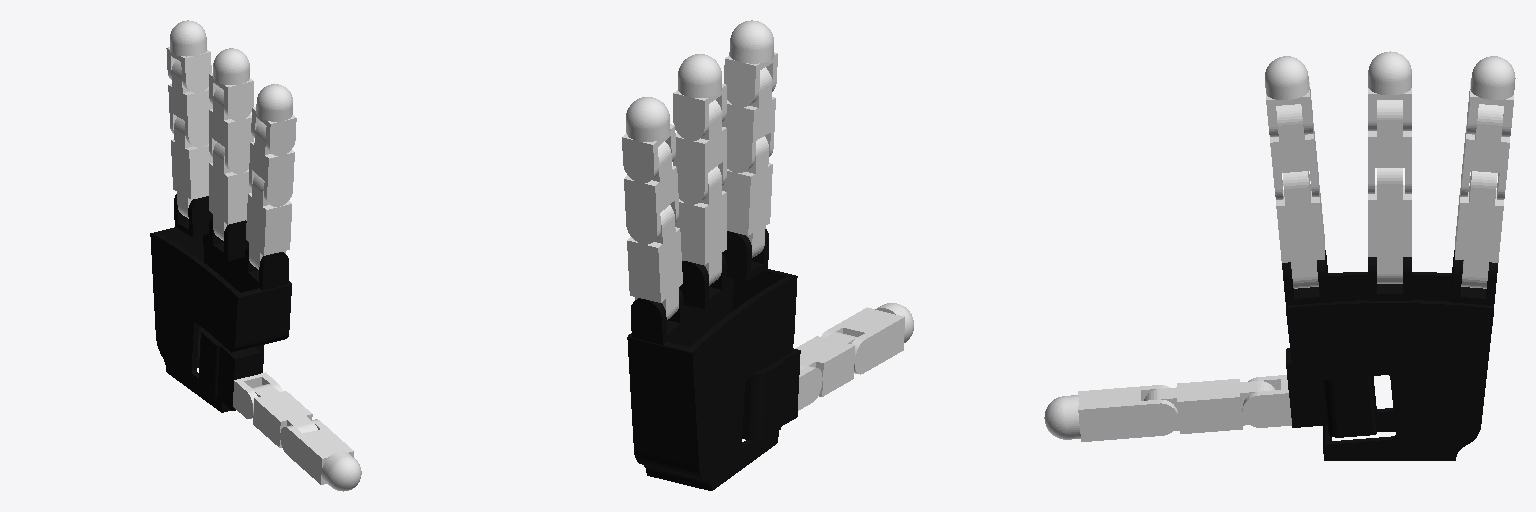
--- Facts derived from the render (not from the file) ---
The picture shows the robot from 3 angles, left to right: view 1: azimuth 30°, elevation 25°; view 2: azimuth 150°, elevation 25°; view 3: azimuth 270°, elevation 25°; orthographic projection.
Robot: ahand — 24 links, 23 joints (16 revolute, 7 fixed); root link world; default pose: all joints at 0.
Links seen in each view (by area): view 1: ahand_palm_link, thumb_dof0_link, f1_dof1_link, f2_dof1_link, f3_dof1_link, thumb_dof2_link, f1_dof2_link, thumb_dof3_link, f2_dof2_link, f3_dof2_link, f1_dof0_link, f3_dof3_link (+9 smaller); view 2: ahand_palm_link, f3_dof1_link, thumb_dof0_link, f2_dof1_link, f1_dof1_link, f3_dof2_link, f2_dof2_link, f1_dof2_link, thumb_dof3_link, thumb_dof2_link, f3_dof0_link, f1_dof3_link (+8 smaller); view 3: ahand_palm_link, thumb_dof0_link, thumb_dof3_link, f3_dof1_link, f1_dof1_link, f2_dof1_link, thumb_dof2_link, f1_dof2_link, f3_dof2_link, f2_dof2_link, thumb_dof1_link, f1_dof4_link (+9 smaller).
Link boxes in pixels (bbox=[...]): ahand_palm_link: bbox=[150, 227, 291, 412]; thumb_dof0_link: bbox=[198, 328, 263, 410]; f1_dof1_link: bbox=[246, 174, 291, 269]; f2_dof1_link: bbox=[209, 142, 251, 240]; f3_dof1_link: bbox=[171, 117, 212, 218]; thumb_dof2_link: bbox=[252, 384, 317, 447]; f1_dof2_link: bbox=[249, 121, 294, 206]; thumb_dof3_link: bbox=[280, 419, 353, 484]; f2_dof2_link: bbox=[209, 87, 253, 173]; f3_dof2_link: bbox=[168, 60, 212, 147]; f1_dof0_link: bbox=[244, 244, 288, 290]; f3_dof3_link: bbox=[166, 47, 211, 92]; ahand_palm_link: bbox=[627, 269, 797, 490]; f3_dof1_link: bbox=[627, 205, 682, 319]; thumb_dof0_link: bbox=[742, 348, 800, 440]; f2_dof1_link: bbox=[675, 166, 726, 285]; f1_dof1_link: bbox=[722, 136, 772, 257]; f3_dof2_link: bbox=[624, 141, 678, 244]; f2_dof2_link: bbox=[673, 100, 726, 204]; f1_dof2_link: bbox=[722, 67, 775, 172]; thumb_dof3_link: bbox=[821, 307, 904, 374]; thumb_dof2_link: bbox=[795, 332, 857, 396]; f3_dof0_link: bbox=[631, 288, 684, 344]; f1_dof3_link: bbox=[724, 52, 777, 107]; ahand_palm_link: bbox=[1286, 272, 1493, 460]; thumb_dof0_link: bbox=[1286, 348, 1376, 437]; thumb_dof3_link: bbox=[1078, 385, 1178, 441]; f3_dof1_link: bbox=[1455, 171, 1503, 288]; f1_dof1_link: bbox=[1276, 171, 1324, 288]; f2_dof1_link: bbox=[1368, 168, 1411, 283]; thumb_dof2_link: bbox=[1144, 379, 1274, 433]; f1_dof2_link: bbox=[1270, 104, 1319, 199]; f3_dof2_link: bbox=[1460, 104, 1509, 199]; f2_dof2_link: bbox=[1368, 100, 1411, 193]; thumb_dof1_link: bbox=[1242, 375, 1291, 427]; f1_dof4_link: bbox=[1265, 56, 1309, 99].
Size in the robot's own frame: 0.0448 by 0.2574 by 0.2402 metres.
21 mesh visuals loaded from 7 distinct referenced files (7 Collada DAE).

URDF robot description (ahand):
<?xml version="1.0" ?>
<!-- =================================================================================== -->
<!-- |    This document was autogenerated by xacro from allegro_hand.xacro             | -->
<!-- |    EDITING THIS FILE BY HAND IS NOT RECOMMENDED                                 | -->
<!-- =================================================================================== -->
<robot name="ahand" xmlns:xacro="http://ros.org/wiki/xacro">
  <link name="world"/>
  <joint name="ahand_base_joint" type="fixed">
    <parent link="world"/>
    <child link="ahand_palm_link"/>
    <origin rpy="0 0 0" xyz="1.0 0 0.15"/>
  </joint>
  <link name="ahand_palm_link">
    <inertial>
      <origin xyz="-0.01 0 -0.05"/>
      <!--origin xyz="-0.01 0 -0.05"/-->
      <inertia ixx="0.00184605916667" ixy="0" ixz="0" iyy="0.00112558666667" iyz="0" izz="0.00103097916667"/>
      <mass value="1.1644"/>
    </inertial>
    <visual>
      <origin rpy="3.14159265359 0 0" xyz="-0.0282 -0.057 -0.095"/>
      <!-- DONE -->
      <material name="all">
        <color rgba="0.1 0.1 0.1 0.5"/>
      </material>
      <geometry>
        <mesh filename="package://allegro_hand_description/meshes/allegro_palm_left.dae"/>
      </geometry>
    </visual>
    <collision>
      <origin rpy="3.14159265359 0 0" xyz="-0.0282 -0.057 -0.095"/>
      <!-- DONE -->
      <geometry>
        <mesh filename="package://allegro_hand_description/meshes/allegro_palm_left.dae"/>
      </geometry>
    </collision>
  </link>
  <joint name="ahand_palm_surface_joint" type="fixed">
    <parent link="ahand_palm_link"/>
    <child link="ahand_palm_surface_link"/>
    <origin rpy="0 0 0" xyz="0 0 0.08"/>
    <limit effort="5" lower="0" upper="3.14159265359" velocity="5.0"/>
    <dynamics damping="0.002" friction="0.08"/>
  </joint>
  <link name="ahand_palm_surface_link">
    <inertial>
      <mass value="0.000001"/>
      <inertia ixx="0.000001" ixy="0.0" ixz="0.0" iyy="0.000001" iyz="0.0" izz="0.000001"/>
    </inertial>
  </link>
  <joint name="ahand_grasp_joint" type="fixed">
    <parent link="ahand_palm_link"/>
    <child link="ahand_grasp_link"/>
    <origin rpy="0 0 0" xyz="0 0 0.12"/>
    <limit effort="5" lower="0" upper="3.14159265359" velocity="5.0"/>
    <dynamics damping="0.002" friction="0.08"/>
  </joint>
  <link name="ahand_grasp_link">
    <inertial>
      <mass value="0.000001"/>
      <inertia ixx="0.000001" ixy="0.0" ixz="0.0" iyy="0.000001" iyz="0.0" izz="0.000001"/>
    </inertial>
  </link>
  <joint name="f1_dof0_joint" type="revolute">
    <parent link="ahand_palm_link"/>
    <child link="f1_dof0_link"/>
    <origin rpy="0.0873 0 0" xyz="0 -0.044981 -0.002298"/>
    <axis xyz="0 0 1"/>
    <limit effort="100" lower="-0.469999993522" upper="0.469999993522" velocity="100"/>
    <dynamics damping="0.002" friction="0.08"/>
  </joint>
  <link name="f1_dof0_link">
    <inertial>
      <origin xyz="0.00 0 0.01"/>
      <inertia ixx="9.39583333333e-07" ixy="0" ixz="0" iyy="1.14583333333e-06" iyz="0" izz="9.39583333333e-07"/>
      <mass value="0.011"/>
    </inertial>
    <visual>
      <origin rpy="1.57079632679 0.0 0.0 " xyz="-0.0098 -0.012 0.0"/>
      <!-- DONE, OK -->
      <material name="all">
        <color rgba="0.1 0.1 0.1 0.5"/>
      </material>
      <geometry>
        <mesh filename="package://allegro_hand_description/meshes/allegro_fingerdof0.dae"/>
      </geometry>
    </visual>
    <collision>
      <origin rpy="1.57079632679 0.0 0.0 " xyz="-0.0098 -0.012 0.0"/>
      <!-- DONE, OK -->
      <material name="all">
        <color rgba="0.1 0.1 0.1 0.5"/>
      </material>
      <geometry>
        <mesh filename="package://allegro_hand_description/meshes/allegro_fingerdof0.dae"/>
      </geometry>
    </collision>
  </link>
  <joint name="f1_dof1_joint" type="revolute">
    <parent link="f1_dof0_link"/>
    <child link="f1_dof1_link"/>
    <origin rpy="-1.57079632679 0 0" xyz="0 0 0.0164"/>
    <axis xyz="0 0 1"/>
    <limit effort="100" lower="-0.19600000376" upper="1.60999999972" velocity="100"/>
    <dynamics damping="0.002" friction="0.08"/>
  </joint>
  <link name="f1_dof1_link">
    <inertial>
      <origin xyz="0.  -0.027 0 "/>
      <inertia ixx="2.01246833333e-05" ixy="0" ixz="0" iyy="7.10416666667e-06" iyz="0" izz="2.01246833333e-05"/>
      <mass value="0.0682"/>
    </inertial>
    <visual>
      <material name="WAMGrey">
        <color rgba="0.9 0.9 0.9 1.0"/>
      </material>
      <origin rpy="0 0 0.0" xyz="-0.0098 -0.0638 0.012"/>
      <!-- DONE -->
      <geometry>
        <mesh filename="package://allegro_hand_description/meshes/allegro_fingerdof1.dae"/>
      </geometry>
    </visual>
    <collision>
      <origin rpy="1.57079632679 0 0.0" xyz=" 0.  -0.027 0  "/>
      <geometry>
        <cylinder length="0.035" radius="0.0125"/>
      </geometry>
    </collision>
  </link>
  <joint name="f1_dof2_joint" type="revolute">
    <parent link="f1_dof1_link"/>
    <child link="f1_dof2_link"/>
    <origin rpy="0 0 -1.57079632679" xyz="0.0 -0.054 0.0"/>
    <!-- DONE -->
    <axis xyz="0 0 1"/>
    <limit effort="100" lower="-0.174000006366" upper="1.70899999672" velocity="100"/>
    <dynamics damping="0.002" friction="0.08"/>
  </joint>
  <link name="f1_dof2_link">
    <inertial>
      <origin xyz=" 0.0192 0 0 "/>
      <inertia ixx="4.1875e-06" ixy="0" ixz="0" iyy="7.033526e-06" iyz="0" izz="7.033526e-06"/>
      <mass value="0.0402"/>
    </inertial>
    <visual>
      <origin rpy="3.14159265359 0 1.57079632679" xyz="-0.0098 -0.0098 -0.012"/>
      <!-- DONE -->
      <material name="WAMGrey">
        <color rgba="0.9 0.9 0.9 0.0"/>
      </material>
      <geometry>
        <mesh filename="package://allegro_hand_description/meshes/allegro_fingerdof2.dae"/>
      </geometry>
    </visual>
    <collision>
      <origin rpy="1.57079632679 0 1.57079632679" xyz=" 0.0192 0 0 "/>
      <geometry>
        <cylinder length="0.05" radius="0.0125"/>
      </geometry>
    </collision>
  </link>
  <joint name="f1_dof3_joint" type="revolute">
    <parent link="f1_dof2_link"/>
    <child link="f1_dof3_link"/>
    <origin rpy="0 0 0" xyz="0.0384 0 0"/>
    <axis xyz="0 0 1"/>
    <limit effort="100" lower="-0.227000000882" upper="1.6179999956" velocity="100"/>
    <dynamics damping="0.002" friction="0.08"/>
  </joint>
  <link name="f1_dof3_link">
    <inertial>
      <origin xyz=" 0.01 0 0 "/>
      <inertia ixx="9.79166666667e-07" ixy="0" ixz="0" iyy="8.02916666667e-07" iyz="0" izz="8.02916666667e-07"/>
      <mass value="0.0094"/>
    </inertial>
    <visual>
      <origin rpy="0 0 1.57079632679" xyz="0.016 -0.0098 0.012"/>
      <!-- DONE -->
      <material name="WAMGrey">
        <color rgba="0.9 0.9 0.9 1.0"/>
      </material>
      <geometry>
        <mesh filename="package://allegro_hand_description/meshes/allegro_fingerdof0.dae"/>
      </geometry>
    </visual>
    <collision>
      <origin rpy="0 0 1.57079632679" xyz="0.016 -0.0098 0.012"/>
      <!-- DONE -->
      <geometry>
        <mesh filename="package://allegro_hand_description/meshes/allegro_fingerdof0.dae"/>
      </geometry>
    </collision>
  </link>
  <joint name="f1_dof4_joint" type="fixed">
    <parent link="f1_dof3_link"/>
    <child link="f1_dof4_link"/>
    <origin rpy="0 0 0" xyz="0.016 0 0"/>
  </joint>
  <link name="f1_dof4_link">
    <inertial>
      <origin xyz=" 0.01 0 0 "/>
      <inertia ixx="1.17333333333e-06" ixy="0" ixz="0" iyy="1.17333333333e-06" iyz="0" izz="1.17333333333e-06"/>
      <mass value="0.0176"/>
    </inertial>
    <visual>
      <origin rpy="0 0 -1.57079632679" xyz="0 0.012 0.012"/>
      <!-- DONE -->
      <material name="WAMGrey">
        <color rgba="0.9 0.9 0.9 0.0"/>
      </material>
      <geometry>
        <mesh filename="package://allegro_hand_description/meshes/allegro_fingertip.dae"/>
      </geometry>
    </visual>
    <collision name="f1_dof4_link_collision">
      <origin rpy="0 0 -1.57079632679" xyz=" 0.01 0 0 "/>
      <geometry>
        <sphere radius="0.01"/>
      </geometry>
    </collision>
  </link>
  <joint name="f2_dof0_joint" type="revolute">
    <parent link="ahand_palm_link"/>
    <child link="f2_dof0_link"/>
    <origin rpy="0 0 0.0" xyz="0 0 0"/>
    <axis xyz="0 0 1"/>
    <limit effort="100" lower="-0.469999993522" upper="0.469999993522" velocity="100"/>
    <dynamics damping="0.002" friction="0.08"/>
  </joint>
  <link name="f2_dof0_link">
    <inertial>
      <origin xyz="0.00 0 0.01"/>
      <inertia ixx="9.39583333333e-07" ixy="0" ixz="0" iyy="1.14583333333e-06" iyz="0" izz="9.39583333333e-07"/>
      <mass value="0.011"/>
    </inertial>
    <visual>
      <origin rpy="1.57079632679 0.0 0.0 " xyz="-0.0098 -0.012 0.0"/>
      <!-- DONE, OK -->
      <material name="all">
        <color rgba="0.1 0.1 0.1 0.5"/>
      </material>
      <geometry>
        <mesh filename="package://allegro_hand_description/meshes/allegro_fingerdof0.dae"/>
      </geometry>
    </visual>
    <collision>
      <origin rpy="1.57079632679 0.0 0.0 " xyz="-0.0098 -0.012 0.0"/>
      <!-- DONE, OK -->
      <material name="all">
        <color rgba="0.1 0.1 0.1 0.5"/>
      </material>
      <geometry>
        <mesh filename="package://allegro_hand_description/meshes/allegro_fingerdof0.dae"/>
      </geometry>
    </collision>
  </link>
  <joint name="f2_dof1_joint" type="revolute">
    <parent link="f2_dof0_link"/>
    <child link="f2_dof1_link"/>
    <origin rpy="-1.57079632679 0 0" xyz="0 0 0.0164"/>
    <axis xyz="0 0 1"/>
    <limit effort="100" lower="-0.19600000376" upper="1.60999999972" velocity="100"/>
    <dynamics damping="0.002" friction="0.08"/>
  </joint>
  <link name="f2_dof1_link">
    <inertial>
      <origin xyz="0.  -0.027 0 "/>
      <inertia ixx="2.01246833333e-05" ixy="0" ixz="0" iyy="7.10416666667e-06" iyz="0" izz="2.01246833333e-05"/>
      <mass value="0.0682"/>
    </inertial>
    <visual>
      <material name="WAMGrey">
        <color rgba="0.9 0.9 0.9 1.0"/>
      </material>
      <origin rpy="0 0 0.0" xyz="-0.0098 -0.0638 0.012"/>
      <!-- DONE -->
      <geometry>
        <mesh filename="package://allegro_hand_description/meshes/allegro_fingerdof1.dae"/>
      </geometry>
    </visual>
    <collision>
      <origin rpy="1.57079632679 0 0.0" xyz=" 0.  -0.027 0  "/>
      <geometry>
        <cylinder length="0.035" radius="0.0125"/>
      </geometry>
    </collision>
  </link>
  <joint name="f2_dof2_joint" type="revolute">
    <parent link="f2_dof1_link"/>
    <child link="f2_dof2_link"/>
    <origin rpy="0 0 -1.57079632679" xyz="0.0 -0.054 0.0"/>
    <!-- DONE -->
    <axis xyz="0 0 1"/>
    <limit effort="100" lower="-0.174000006366" upper="1.70899999672" velocity="100"/>
    <dynamics damping="0.002" friction="0.08"/>
  </joint>
  <link name="f2_dof2_link">
    <inertial>
      <origin xyz=" 0.0192 0 0 "/>
      <inertia ixx="4.1875e-06" ixy="0" ixz="0" iyy="7.033526e-06" iyz="0" izz="7.033526e-06"/>
      <mass value="0.0402"/>
    </inertial>
    <visual>
      <origin rpy="3.14159265359 0 1.57079632679" xyz="-0.0098 -0.0098 -0.012"/>
      <!-- DONE -->
      <material name="WAMGrey">
        <color rgba="0.9 0.9 0.9 0.0"/>
      </material>
      <geometry>
        <mesh filename="package://allegro_hand_description/meshes/allegro_fingerdof2.dae"/>
      </geometry>
    </visual>
    <collision>
      <origin rpy="1.57079632679 0 1.57079632679" xyz=" 0.0192 0 0 "/>
      <geometry>
        <cylinder length="0.05" radius="0.0125"/>
      </geometry>
    </collision>
  </link>
  <joint name="f2_dof3_joint" type="revolute">
    <parent link="f2_dof2_link"/>
    <child link="f2_dof3_link"/>
    <origin rpy="0 0 0" xyz="0.0384 0 0"/>
    <axis xyz="0 0 1"/>
    <limit effort="100" lower="-0.227000000882" upper="1.6179999956" velocity="100"/>
    <dynamics damping="0.002" friction="0.08"/>
  </joint>
  <link name="f2_dof3_link">
    <inertial>
      <origin xyz=" 0.01 0 0 "/>
      <inertia ixx="9.79166666667e-07" ixy="0" ixz="0" iyy="8.02916666667e-07" iyz="0" izz="8.02916666667e-07"/>
      <mass value="0.0094"/>
    </inertial>
    <visual>
      <origin rpy="0 0 1.57079632679" xyz="0.016 -0.0098 0.012"/>
      <!-- DONE -->
      <material name="WAMGrey">
        <color rgba="0.9 0.9 0.9 1.0"/>
      </material>
      <geometry>
        <mesh filename="package://allegro_hand_description/meshes/allegro_fingerdof0.dae"/>
      </geometry>
    </visual>
    <collision>
      <origin rpy="0 0 1.57079632679" xyz="0.016 -0.0098 0.012"/>
      <!-- DONE -->
      <geometry>
        <mesh filename="package://allegro_hand_description/meshes/allegro_fingerdof0.dae"/>
      </geometry>
    </collision>
  </link>
  <joint name="f2_dof4_joint" type="fixed">
    <parent link="f2_dof3_link"/>
    <child link="f2_dof4_link"/>
    <origin rpy="0 0 0" xyz="0.016 0 0"/>
  </joint>
  <link name="f2_dof4_link">
    <inertial>
      <origin xyz=" 0.01 0 0 "/>
      <inertia ixx="1.17333333333e-06" ixy="0" ixz="0" iyy="1.17333333333e-06" iyz="0" izz="1.17333333333e-06"/>
      <mass value="0.0176"/>
    </inertial>
    <visual>
      <origin rpy="0 0 -1.57079632679" xyz="0 0.012 0.012"/>
      <!-- DONE -->
      <material name="WAMGrey">
        <color rgba="0.9 0.9 0.9 0.0"/>
      </material>
      <geometry>
        <mesh filename="package://allegro_hand_description/meshes/allegro_fingertip.dae"/>
      </geometry>
    </visual>
    <collision name="f2_dof4_link_collision">
      <origin rpy="0 0 -1.57079632679" xyz=" 0.01 0 0 "/>
      <geometry>
        <sphere radius="0.01"/>
      </geometry>
    </collision>
  </link>
  <joint name="f3_dof0_joint" type="revolute">
    <parent link="ahand_palm_link"/>
    <child link="f3_dof0_link"/>
    <origin rpy="-0.0873 0 -0.0" xyz="0 0.044981 -0.002298"/>
    <axis xyz="0 0 1"/>
    <limit effort="100" lower="-0.469999993522" upper="0.469999993522" velocity="100"/>
    <dynamics damping="0.002" friction="0.08"/>
  </joint>
  <link name="f3_dof0_link">
    <inertial>
      <origin xyz="0.00 0 0.01"/>
      <inertia ixx="9.39583333333e-07" ixy="0" ixz="0" iyy="1.14583333333e-06" iyz="0" izz="9.39583333333e-07"/>
      <mass value="0.011"/>
    </inertial>
    <visual>
      <origin rpy="1.57079632679 0.0 0.0 " xyz="-0.0098 -0.012 0.0"/>
      <!-- DONE, OK -->
      <material name="all">
        <color rgba="0.1 0.1 0.1 0.5"/>
      </material>
      <geometry>
        <mesh filename="package://allegro_hand_description/meshes/allegro_fingerdof0.dae"/>
      </geometry>
    </visual>
    <collision>
      <origin rpy="1.57079632679 0.0 0.0 " xyz="-0.0098 -0.012 0.0"/>
      <!-- DONE, OK -->
      <material name="all">
        <color rgba="0.1 0.1 0.1 0.5"/>
      </material>
      <geometry>
        <mesh filename="package://allegro_hand_description/meshes/allegro_fingerdof0.dae"/>
      </geometry>
    </collision>
  </link>
  <joint name="f3_dof1_joint" type="revolute">
    <parent link="f3_dof0_link"/>
    <child link="f3_dof1_link"/>
    <origin rpy="-1.57079632679 0 0" xyz="0 0 0.0164"/>
    <axis xyz="0 0 1"/>
    <limit effort="100" lower="-0.19600000376" upper="1.60999999972" velocity="100"/>
    <dynamics damping="0.002" friction="0.08"/>
  </joint>
  <link name="f3_dof1_link">
    <inertial>
      <origin xyz="0.  -0.027 0 "/>
      <inertia ixx="2.01246833333e-05" ixy="0" ixz="0" iyy="7.10416666667e-06" iyz="0" izz="2.01246833333e-05"/>
      <mass value="0.0682"/>
    </inertial>
    <visual>
      <material name="WAMGrey">
        <color rgba="0.9 0.9 0.9 1.0"/>
      </material>
      <origin rpy="0 0 0.0" xyz="-0.0098 -0.0638 0.012"/>
      <!-- DONE -->
      <geometry>
        <mesh filename="package://allegro_hand_description/meshes/allegro_fingerdof1.dae"/>
      </geometry>
    </visual>
    <collision>
      <origin rpy="1.57079632679 0 0.0" xyz=" 0.  -0.027 0  "/>
      <geometry>
        <cylinder length="0.035" radius="0.0125"/>
      </geometry>
    </collision>
  </link>
  <joint name="f3_dof2_joint" type="revolute">
    <parent link="f3_dof1_link"/>
    <child link="f3_dof2_link"/>
    <origin rpy="0 0 -1.57079632679" xyz="0.0 -0.054 0.0"/>
    <!-- DONE -->
    <axis xyz="0 0 1"/>
    <limit effort="100" lower="-0.174000006366" upper="1.70899999672" velocity="100"/>
    <dynamics damping="0.002" friction="0.08"/>
  </joint>
  <link name="f3_dof2_link">
    <inertial>
      <origin xyz=" 0.0192 0 0 "/>
      <inertia ixx="4.1875e-06" ixy="0" ixz="0" iyy="7.033526e-06" iyz="0" izz="7.033526e-06"/>
      <mass value="0.0402"/>
    </inertial>
    <visual>
      <origin rpy="3.14159265359 0 1.57079632679" xyz="-0.0098 -0.0098 -0.012"/>
      <!-- DONE -->
      <material name="WAMGrey">
        <color rgba="0.9 0.9 0.9 0.0"/>
      </material>
      <geometry>
        <mesh filename="package://allegro_hand_description/meshes/allegro_fingerdof2.dae"/>
      </geometry>
    </visual>
    <collision>
      <origin rpy="1.57079632679 0 1.57079632679" xyz=" 0.0192 0 0 "/>
      <geometry>
        <cylinder length="0.05" radius="0.0125"/>
      </geometry>
    </collision>
  </link>
  <joint name="f3_dof3_joint" type="revolute">
    <parent link="f3_dof2_link"/>
    <child link="f3_dof3_link"/>
    <origin rpy="0 0 0" xyz="0.0384 0 0"/>
    <axis xyz="0 0 1"/>
    <limit effort="100" lower="-0.227000000882" upper="1.6179999956" velocity="100"/>
    <dynamics damping="0.002" friction="0.08"/>
  </joint>
  <link name="f3_dof3_link">
    <inertial>
      <origin xyz=" 0.01 0 0 "/>
      <inertia ixx="9.79166666667e-07" ixy="0" ixz="0" iyy="8.02916666667e-07" iyz="0" izz="8.02916666667e-07"/>
      <mass value="0.0094"/>
    </inertial>
    <visual>
      <origin rpy="0 0 1.57079632679" xyz="0.016 -0.0098 0.012"/>
      <!-- DONE -->
      <material name="WAMGrey">
        <color rgba="0.9 0.9 0.9 1.0"/>
      </material>
      <geometry>
        <mesh filename="package://allegro_hand_description/meshes/allegro_fingerdof0.dae"/>
      </geometry>
    </visual>
    <collision>
      <origin rpy="0 0 1.57079632679" xyz="0.016 -0.0098 0.012"/>
      <!-- DONE -->
      <geometry>
        <mesh filename="package://allegro_hand_description/meshes/allegro_fingerdof0.dae"/>
      </geometry>
    </collision>
  </link>
  <joint name="f3_dof4_joint" type="fixed">
    <parent link="f3_dof3_link"/>
    <child link="f3_dof4_link"/>
    <origin rpy="0 0 0" xyz="0.016 0 0"/>
  </joint>
  <link name="f3_dof4_link">
    <inertial>
      <origin xyz=" 0.01 0 0 "/>
      <inertia ixx="1.17333333333e-06" ixy="0" ixz="0" iyy="1.17333333333e-06" iyz="0" izz="1.17333333333e-06"/>
      <mass value="0.0176"/>
    </inertial>
    <visual>
      <origin rpy="0 0 -1.57079632679" xyz="0 0.012 0.012"/>
      <!-- DONE -->
      <material name="WAMGrey">
        <color rgba="0.9 0.9 0.9 0.0"/>
      </material>
      <geometry>
        <mesh filename="package://allegro_hand_description/meshes/allegro_fingertip.dae"/>
      </geometry>
    </visual>
    <collision name="f3_dof4_link_collision">
      <origin rpy="0 0 -1.57079632679" xyz=" 0.01 0 0 "/>
      <geometry>
        <sphere radius="0.01"/>
      </geometry>
    </collision>
  </link>
  <joint name="thumb_dof0_joint" type="revolute">
    <parent link="ahand_palm_link"/>
    <child link="thumb_dof0_link"/>
    <origin rpy="-3.0543 0 0.0" xyz="-0.0182 -0.0168753 -0.07308"/>
    <axis xyz="0 0 1"/>
    <limit effort="100" lower="-1.0" upper="85.0" velocity="100"/>
    <!-- new version, it still needs to be negative ... -->
    <dynamics damping="0.002" friction="0.08"/>
  </joint>
  <link name="thumb_dof0_link">
    <inertial>
      <origin xyz="-0.0025 0.02 -0.01 "/>
      <inertia ixx="2.66666666667e-08" ixy="0" ixz="0" iyy="1.66666666667e-08" iyz="0" izz="1.66666666667e-08"/>
      <mass value="0.0001"/>
    </inertial>
    <visual>
      <origin rpy="-1.57079632679 0.0 3.14159265359 " xyz="0.025 -0.0088 0.010"/>
      <!-- DONE -->
      <material name="all">
        <color rgba="0.1 0.1 0.1 0.5"/>
      </material>
      <geometry>
        <mesh filename="package://allegro_hand_description/meshes/allegro_thumbdof0.dae"/>
      </geometry>
    </visual>
    <!--collision>
        		<origin xyz="0.025 -0.0088 0.010" rpy="${-PI/2} ${0} ${PI} "/> 
        		<geometry>
          			<mesh filename="${models_path}/shapes/allegro_thumbdof0.dae"/>
        		</geometry>
      		</collision-->
  </link>
  <joint name="thumb_dof1_joint" type="revolute">
    <parent link="thumb_dof0_link"/>
    <child link="thumb_dof1_link"/>
    <origin rpy="-1.57079632679 0.0 0.0" xyz="0 0.0375 -0.0034"/>
    <!-- DONE -->
    <axis xyz="0 0 1"/>
    <limit effort="100" lower="-66.0" upper="6.0" velocity="100"/>
    <dynamics damping="0.002" friction="0.08"/>
  </joint>
  <link name="thumb_dof1_link">
    <inertial>
      <origin xyz="0.00 0.00 0.015 "/>
      <inertia ixx="6.66666666667e-09" ixy="0" ixz="0" iyy="6.66666666667e-09" iyz="0" izz="6.66666666667e-09"/>
      <mass value="0.0001"/>
    </inertial>
    <visual>
      <material name="WAMGrey">
        <color rgba="0.9 0.9 0.9 0.0"/>
      </material>
      <origin rpy="1.57079632679 0.0 1.57079632679" xyz="0.012 -0.0098 0"/>
      <!-- DONE -->
      <geometry>
        <mesh filename="package://allegro_hand_description/meshes/allegro_fingerdof0.dae"/>
      </geometry>
    </visual>
    <!--collision>
	       		<origin xyz="0.012 -0.0098 0" rpy="${PI/2} ${0} ${PI/2}" />
        		<geometry>
        			<mesh filename="${models_path}/shapes/allegro_fingerdof0.dae"/>
        		</geometry>
      		</collision> -->
  </link>
  <joint name="thumb_dof2_joint" type="revolute">
    <parent link="thumb_dof1_link"/>
    <child link="thumb_dof2_link"/>
    <origin rpy="-1.57079632679 0 1.57079632679" xyz="0 0 0.0177"/>
    <!-- DONE -->
    <axis xyz="0 0 1"/>
    <limit effort="100" lower="-10.8" upper="94.0" velocity="100"/>
    <dynamics damping="0.002" friction="0.08"/>
  </joint>
  <link name="thumb_dof2_link">
    <inertial>
      <origin xyz="0.00 -0.028 0.00 "/>
      <inertia ixx="2.41666666667e-08" ixy="0" ixz="0" iyy="6.66666666667e-09" iyz="0" izz="2.41666666667e-08"/>
      <mass value="0.0001"/>
    </inertial>
    <visual>
      <origin xyz="-0.0098 -0.063 0.012"/>
      <material name="WAMGrey">
        <color rgba="0.9 0.9 0.9 0.0"/>
      </material>
      <geometry>
        <mesh filename="package://allegro_hand_description/meshes/allegro_fingerdof1.dae"/>
      </geometry>
    </visual>
    <!--<collision>
			<origin xyz="-0.0098 -0.063 0.012" />
        		<geometry>
          			<mesh filename="${models_path}/shapes/allegro_fingerdof1.dae"/>
        		</geometry>
      		</collision> -->
  </link>
  <joint name="thumb_dof3_joint" type="revolute">
    <parent link="thumb_dof2_link"/>
    <child link="thumb_dof3_link"/>
    <origin rpy="0 0 -1.57079632679" xyz="0 -0.0514 0"/>
    <!-- DONE -->
    <axis xyz="0 0 1"/>
    <limit effort="100" lower="0.0" upper="98.0" velocity="100"/>
    <dynamics damping="0.002" friction="0.08"/>
  </joint>
  <link name="thumb_dof3_link">
    <inertial>
      <origin xyz="0.025 0.0 0.0 "/>
      <inertia ixx="6.66666666667e-09" ixy="0" ixz="0" iyy="1.66666666667e-08" iyz="0" izz="1.66666666667e-08"/>
      <mass value="0.0001"/>
    </inertial>
    <visual>
      <origin rpy="0 0 -1.57079632679" xyz="-0.0078 0.0098 0.012"/>
      <!-- DONE -->
      <material name="WAMGrey">
        <color rgba="0.9 0.9 0.9 0.0"/>
      </material>
      <geometry>
        <mesh filename="package://allegro_hand_description/meshes/allegro_thumbdof3.dae"/>
      </geometry>
    </visual>
  </link>
  <joint name="thumb_dof4_joint" type="fixed">
    <parent link="thumb_dof3_link"/>
    <child link="thumb_dof4_link"/>
    <origin rpy="0 0 0" xyz="0.046 0 0"/>
    <!-- DONE -->
  </joint>
  <link name="thumb_dof4_link">
    <inertial>
      <origin xyz="0.01 0.0 0.0 "/>
      <inertia ixx="6.66666666667e-09" ixy="0" ixz="0" iyy="6.66666666667e-09" iyz="0" izz="6.66666666667e-09"/>
      <mass value="0.0001"/>
    </inertial>
    <visual>
      <origin rpy="0 0 -1.57079632679" xyz="0 0.012 0.012"/>
      <!-- DONE -->
      <material name="WAMGrey">
        <color rgba="0.9 0.9 0.9 0.0"/>
      </material>
      <geometry>
        <mesh filename="package://allegro_hand_description/meshes/allegro_fingertip.dae"/>
      </geometry>
    </visual>
    <!--collision>
   			<origin xyz="0 0.012 0.012" rpy="0 0 ${-PI/2}"/> 
    			<geometry>
      			<mesh filename="${models_path}/shapes/allegro_fingertip.dae"/>
   			</geometry>
  		</collision> -->
  </link>
  <gazebo>
    <plugin filename="libgazebo_ros_control.so" name="gazebo_ros_control">
      <robotNamespace>/ahand</robotNamespace>
    </plugin>
  </gazebo>
  <gazebo reference="ahand_palm_link">
    <mu1>0.05</mu1>
    <mu2>0.05</mu2>
    <kp>400000</kp>
  </gazebo>
  <gazebo reference="f1_dof0_joint">
    <provideFeedback>true</provideFeedback>
    <implicitSpringDamper>true</implicitSpringDamper>
  </gazebo>
  <gazebo reference="f1_dof1_link">
    <mu1>0.05</mu1>
    <mu2>0.05</mu2>
    <kp>400000</kp>
  </gazebo>
  <gazebo reference="f1_dof1_joint">
    <provideFeedback>true</provideFeedback>
    <implicitSpringDamper>true</implicitSpringDamper>
  </gazebo>
  <gazebo reference="f1_dof1_link">
    <mu1>0.05</mu1>
    <mu2>0.05</mu2>
    <kp>400000</kp>
  </gazebo>
  <gazebo reference="f1_dof2_joint">
    <provideFeedback>true</provideFeedback>
    <implicitSpringDamper>true</implicitSpringDamper>
  </gazebo>
  <gazebo reference="f1_dof1_link">
    <mu1>0.05</mu1>
    <mu2>0.05</mu2>
    <kp>400000</kp>
  </gazebo>
  <gazebo reference="f1_dof3_joint">
    <provideFeedback>true</provideFeedback>
    <implicitSpringDamper>true</implicitSpringDamper>
  </gazebo>
  <gazebo reference="f1_dof1_link">
    <mu1>0.05</mu1>
    <mu2>0.05</mu2>
    <kp>400000</kp>
  </gazebo>
  <gazebo reference="f2_dof0_joint">
    <provideFeedback>true</provideFeedback>
    <implicitSpringDamper>true</implicitSpringDamper>
  </gazebo>
  <gazebo reference="f2_dof1_link">
    <mu1>0.05</mu1>
    <mu2>0.05</mu2>
    <kp>400000</kp>
  </gazebo>
  <gazebo reference="f2_dof1_joint">
    <provideFeedback>true</provideFeedback>
    <implicitSpringDamper>true</implicitSpringDamper>
  </gazebo>
  <gazebo reference="f2_dof1_link">
    <mu1>0.05</mu1>
    <mu2>0.05</mu2>
    <kp>400000</kp>
  </gazebo>
  <gazebo reference="f2_dof2_joint">
    <provideFeedback>true</provideFeedback>
    <implicitSpringDamper>true</implicitSpringDamper>
  </gazebo>
  <gazebo reference="f2_dof1_link">
    <mu1>0.05</mu1>
    <mu2>0.05</mu2>
    <kp>400000</kp>
  </gazebo>
  <gazebo reference="f2_dof3_joint">
    <provideFeedback>true</provideFeedback>
    <implicitSpringDamper>true</implicitSpringDamper>
  </gazebo>
  <gazebo reference="f2_dof1_link">
    <mu1>0.05</mu1>
    <mu2>0.05</mu2>
    <kp>400000</kp>
  </gazebo>
  <gazebo reference="f3_dof0_joint">
    <provideFeedback>true</provideFeedback>
    <implicitSpringDamper>true</implicitSpringDamper>
  </gazebo>
  <gazebo reference="f3_dof1_link">
    <mu1>0.05</mu1>
    <mu2>0.05</mu2>
    <kp>400000</kp>
  </gazebo>
  <gazebo reference="f3_dof1_joint">
    <provideFeedback>true</provideFeedback>
    <implicitSpringDamper>true</implicitSpringDamper>
  </gazebo>
  <gazebo reference="f3_dof1_link">
    <mu1>0.05</mu1>
    <mu2>0.05</mu2>
    <kp>400000</kp>
  </gazebo>
  <gazebo reference="f3_dof2_joint">
    <provideFeedback>true</provideFeedback>
    <implicitSpringDamper>true</implicitSpringDamper>
  </gazebo>
  <gazebo reference="f3_dof1_link">
    <mu1>0.05</mu1>
    <mu2>0.05</mu2>
    <kp>400000</kp>
  </gazebo>
  <gazebo reference="f3_dof3_joint">
    <provideFeedback>true</provideFeedback>
    <implicitSpringDamper>true</implicitSpringDamper>
  </gazebo>
  <gazebo reference="f3_dof1_link">
    <mu1>0.05</mu1>
    <mu2>0.05</mu2>
    <kp>400000</kp>
  </gazebo>
  <gazebo reference="thumb_dof0_joint">
    <provideFeedback>true</provideFeedback>
    <implicitSpringDamper>true</implicitSpringDamper>
  </gazebo>
  <gazebo reference="thumb_dof1_link">
    <mu1>0.05</mu1>
    <mu2>0.05</mu2>
    <kp>400000</kp>
  </gazebo>
  <gazebo reference="thumb_dof1_joint">
    <provideFeedback>true</provideFeedback>
    <implicitSpringDamper>true</implicitSpringDamper>
  </gazebo>
  <gazebo reference="thumb_dof1_link">
    <mu1>0.05</mu1>
    <mu2>0.05</mu2>
    <kp>400000</kp>
  </gazebo>
  <gazebo reference="thumb_dof2_joint">
    <provideFeedback>true</provideFeedback>
    <implicitSpringDamper>true</implicitSpringDamper>
  </gazebo>
  <gazebo reference="thumb_dof1_link">
    <mu1>0.05</mu1>
    <mu2>0.05</mu2>
    <kp>400000</kp>
  </gazebo>
  <gazebo reference="thumb_dof3_joint">
    <provideFeedback>true</provideFeedback>
    <implicitSpringDamper>true</implicitSpringDamper>
  </gazebo>
  <gazebo reference="thumb_dof1_link">
    <mu1>0.05</mu1>
    <mu2>0.05</mu2>
    <kp>400000</kp>
  </gazebo>
  <transmission name="f1_dof0_trans">
    <type>transmission_interface/SimpleTransmission</type>
    <joint name="f1_dof0_joint">
      <hardwareInterface>EffortJointInterface</hardwareInterface>
    </joint>
    <actuator name="f1_dof0_motor">
      <hardwareInterface>EffortJointInterface</hardwareInterface>
      <mechanicalReduction>1</mechanicalReduction>
    </actuator>
  </transmission>
  <transmission name="f1_dof1_trans">
    <type>transmission_interface/SimpleTransmission</type>
    <joint name="f1_dof1_joint">
      <hardwareInterface>EffortJointInterface</hardwareInterface>
    </joint>
    <actuator name="f1_dof1_motor">
      <hardwareInterface>EffortJointInterface</hardwareInterface>
      <mechanicalReduction>1</mechanicalReduction>
    </actuator>
  </transmission>
  <transmission name="f1_dof2_trans">
    <type>transmission_interface/SimpleTransmission</type>
    <joint name="f1_dof2_joint">
      <hardwareInterface>EffortJointInterface</hardwareInterface>
    </joint>
    <actuator name="f1_dof2_motor">
      <hardwareInterface>EffortJointInterface</hardwareInterface>
      <mechanicalReduction>1</mechanicalReduction>
    </actuator>
  </transmission>
  <transmission name="f1_dof3_trans">
    <type>transmission_interface/SimpleTransmission</type>
    <joint name="f1_dof3_joint">
      <hardwareInterface>EffortJointInterface</hardwareInterface>
    </joint>
    <actuator name="f1_dof3_motor">
      <hardwareInterface>EffortJointInterface</hardwareInterface>
      <mechanicalReduction>1</mechanicalReduction>
    </actuator>
  </transmission>
  <transmission name="f2_dof0_trans">
    <type>transmission_interface/SimpleTransmission</type>
    <joint name="f2_dof0_joint">
      <hardwareInterface>EffortJointInterface</hardwareInterface>
    </joint>
    <actuator name="f2_dof0_motor">
      <hardwareInterface>EffortJointInterface</hardwareInterface>
      <mechanicalReduction>1</mechanicalReduction>
    </actuator>
  </transmission>
  <transmission name="f2_dof1_trans">
    <type>transmission_interface/SimpleTransmission</type>
    <joint name="f2_dof1_joint">
      <hardwareInterface>EffortJointInterface</hardwareInterface>
    </joint>
    <actuator name="f2_dof1_motor">
      <hardwareInterface>EffortJointInterface</hardwareInterface>
      <mechanicalReduction>1</mechanicalReduction>
    </actuator>
  </transmission>
  <transmission name="f2_dof2_trans">
    <type>transmission_interface/SimpleTransmission</type>
    <joint name="f2_dof2_joint">
      <hardwareInterface>EffortJointInterface</hardwareInterface>
    </joint>
    <actuator name="f2_dof2_motor">
      <hardwareInterface>EffortJointInterface</hardwareInterface>
      <mechanicalReduction>1</mechanicalReduction>
    </actuator>
  </transmission>
  <transmission name="f2_dof3_trans">
    <type>transmission_interface/SimpleTransmission</type>
    <joint name="f2_dof3_joint">
      <hardwareInterface>EffortJointInterface</hardwareInterface>
    </joint>
    <actuator name="f2_dof3_motor">
      <hardwareInterface>EffortJointInterface</hardwareInterface>
      <mechanicalReduction>1</mechanicalReduction>
    </actuator>
  </transmission>
  <transmission name="f3_dof0_trans">
    <type>transmission_interface/SimpleTransmission</type>
    <joint name="f3_dof0_joint">
      <hardwareInterface>EffortJointInterface</hardwareInterface>
    </joint>
    <actuator name="f3_dof0_motor">
      <hardwareInterface>EffortJointInterface</hardwareInterface>
      <mechanicalReduction>1</mechanicalReduction>
    </actuator>
  </transmission>
  <transmission name="f3_dof1_trans">
    <type>transmission_interface/SimpleTransmission</type>
    <joint name="f3_dof1_joint">
      <hardwareInterface>EffortJointInterface</hardwareInterface>
    </joint>
    <actuator name="f3_dof1_motor">
      <hardwareInterface>EffortJointInterface</hardwareInterface>
      <mechanicalReduction>1</mechanicalReduction>
    </actuator>
  </transmission>
  <transmission name="f3_dof2_trans">
    <type>transmission_interface/SimpleTransmission</type>
    <joint name="f3_dof2_joint">
      <hardwareInterface>EffortJointInterface</hardwareInterface>
    </joint>
    <actuator name="f3_dof2_motor">
      <hardwareInterface>EffortJointInterface</hardwareInterface>
      <mechanicalReduction>1</mechanicalReduction>
    </actuator>
  </transmission>
  <transmission name="f3_dof3_trans">
    <type>transmission_interface/SimpleTransmission</type>
    <joint name="f3_dof3_joint">
      <hardwareInterface>EffortJointInterface</hardwareInterface>
    </joint>
    <actuator name="f3_dof3_motor">
      <hardwareInterface>EffortJointInterface</hardwareInterface>
      <mechanicalReduction>1</mechanicalReduction>
    </actuator>
  </transmission>
  <transmission name="thumb_dof0_trans">
    <type>transmission_interface/SimpleTransmission</type>
    <joint name="thumb_dof0_joint">
      <hardwareInterface>EffortJointInterface</hardwareInterface>
    </joint>
    <actuator name="thumb_dof0_motor">
      <hardwareInterface>EffortJointInterface</hardwareInterface>
      <mechanicalReduction>1</mechanicalReduction>
    </actuator>
  </transmission>
  <transmission name="thumb_dof1_trans">
    <type>transmission_interface/SimpleTransmission</type>
    <joint name="thumb_dof1_joint">
      <hardwareInterface>EffortJointInterface</hardwareInterface>
    </joint>
    <actuator name="thumb_dof1_motor">
      <hardwareInterface>EffortJointInterface</hardwareInterface>
      <mechanicalReduction>1</mechanicalReduction>
    </actuator>
  </transmission>
  <transmission name="thumb_dof2_trans">
    <type>transmission_interface/SimpleTransmission</type>
    <joint name="thumb_dof2_joint">
      <hardwareInterface>EffortJointInterface</hardwareInterface>
    </joint>
    <actuator name="thumb_dof2_motor">
      <hardwareInterface>EffortJointInterface</hardwareInterface>
      <mechanicalReduction>1</mechanicalReduction>
    </actuator>
  </transmission>
  <transmission name="thumb_dof3_trans">
    <type>transmission_interface/SimpleTransmission</type>
    <joint name="thumb_dof3_joint">
      <hardwareInterface>EffortJointInterface</hardwareInterface>
    </joint>
    <actuator name="thumb_dof3_motor">
      <hardwareInterface>EffortJointInterface</hardwareInterface>
      <mechanicalReduction>1</mechanicalReduction>
    </actuator>
  </transmission>
</robot>
